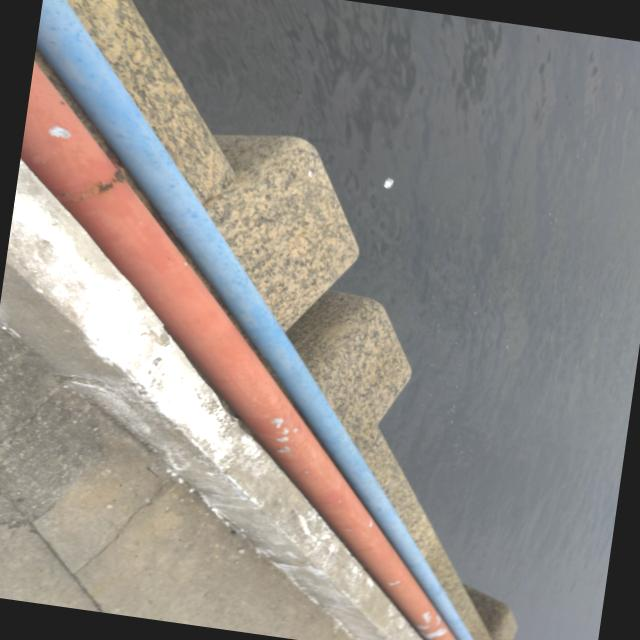gas: (35, 0, 473, 640), (21, 61, 457, 640)
